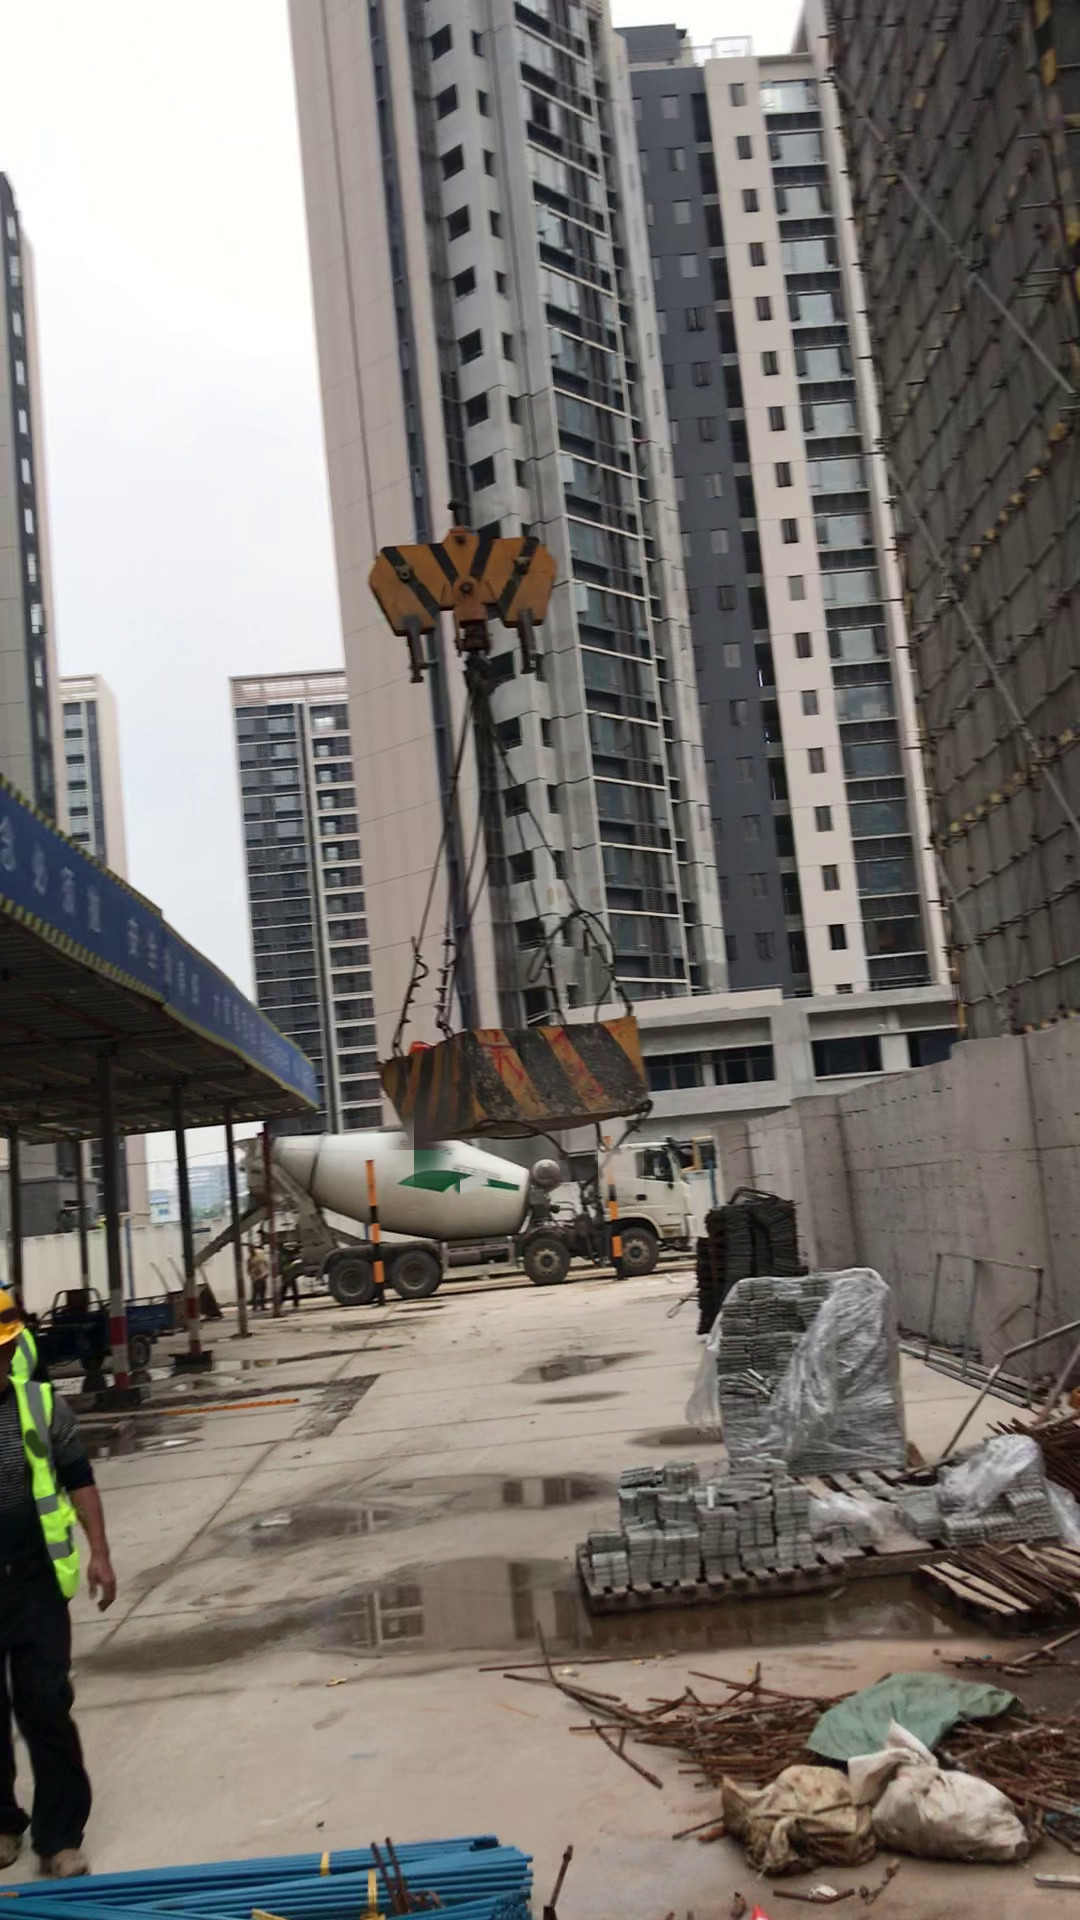handcart: (161, 1251, 223, 1322)
helmet: (1, 1281, 52, 1341)
hook: (366, 484, 563, 650)
person: (1, 1251, 127, 1909)
vest: (13, 1334, 91, 1595)
